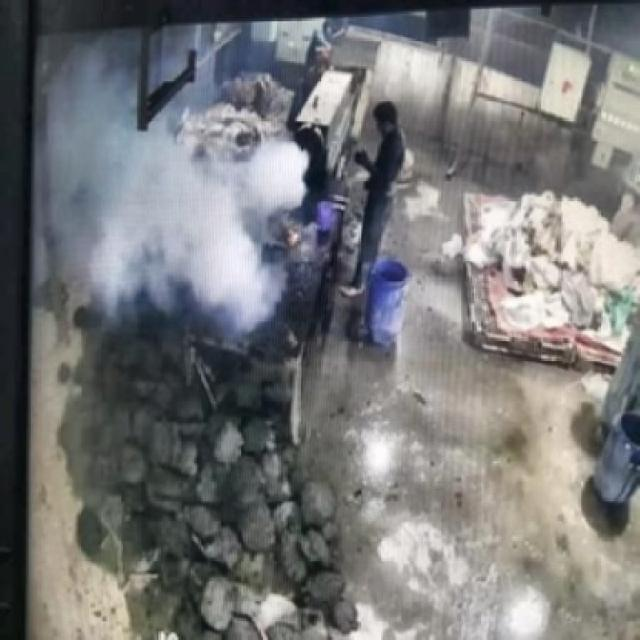smoke: (61, 136, 296, 310)
